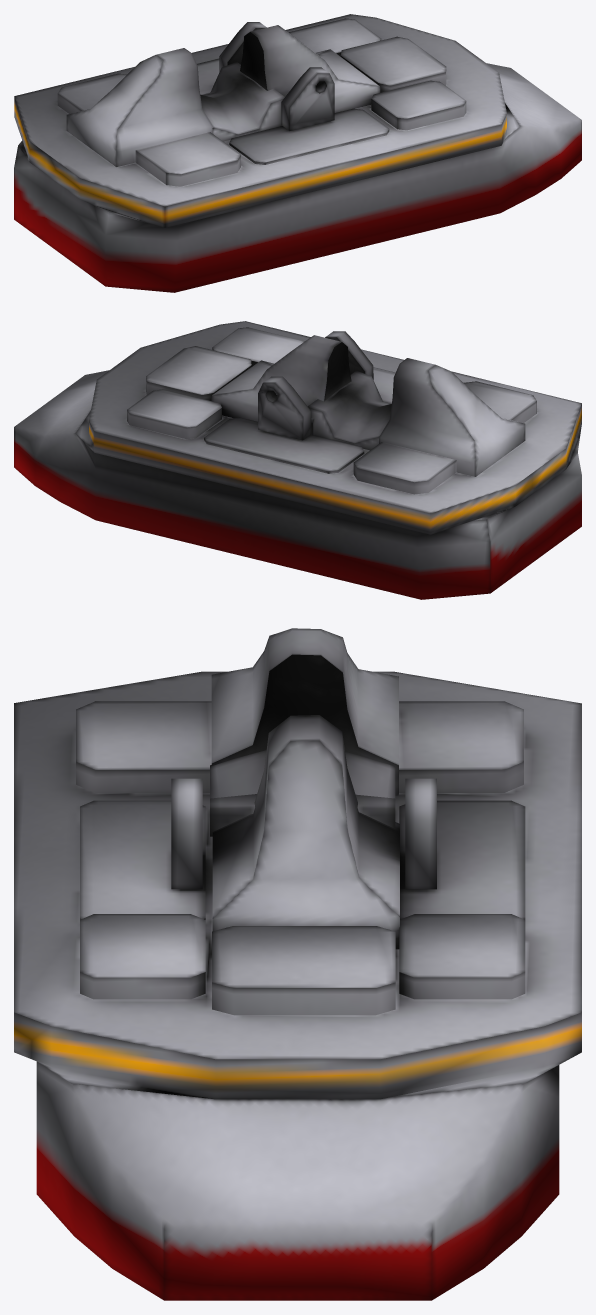
File: r_foot.obj
The picture shows the model from 3 angles, top to bottom: view 1: azimuth 30°, elevation 25°; view 2: azimuth 150°, elevation 25°; view 3: azimuth 270°, elevation 25°; orthographic projection. The views are drawn at different scales.
Parts seen in each view (by area): view 1: <dummy_root>; view 2: <dummy_root>; view 3: <dummy_root>.
Boxes of the visible parts, <box> form: <dummy_root>: <box>14,14,581,292</box>; <dummy_root>: <box>14,321,581,599</box>; <dummy_root>: <box>14,628,581,1300</box>.
Size of the model in its own units: 0.2629 by 0.0866 by 0.1398.
1 material, 1 textured.
